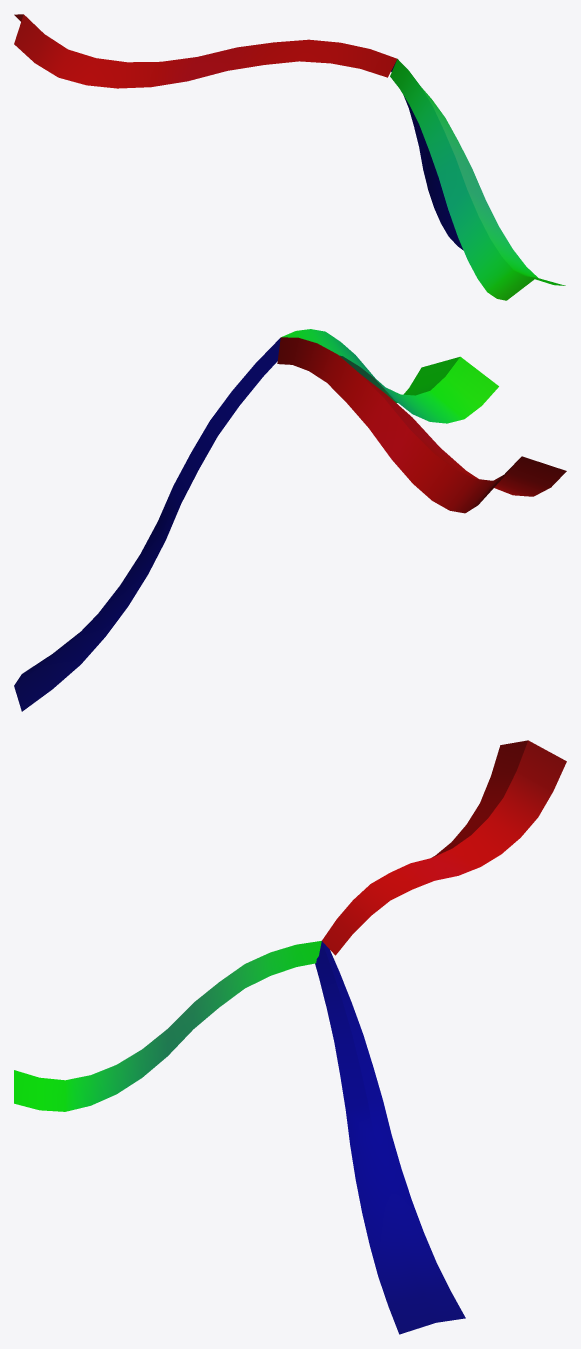
File: uni_fan.fbx
The picture shows the model from 3 angles, top to bottom: view 1: azimuth 30°, elevation 25°; view 2: azimuth 150°, elevation 25°; view 3: azimuth 270°, elevation 25°; orthographic projection. The views are drawn at different scales.
Visible parts, largest first — view 1: uni_fan; view 2: uni_fan; view 3: uni_fan.
Boxes of the visible parts, x1=… form: uni_fan: x1=14, y1=14, x2=565, y2=300; uni_fan: x1=14, y1=329, x2=566, y2=711; uni_fan: x1=14, y1=740, x2=566, y2=1334.
Size of the model in its own units: 49680 by 32473 by 45988.
